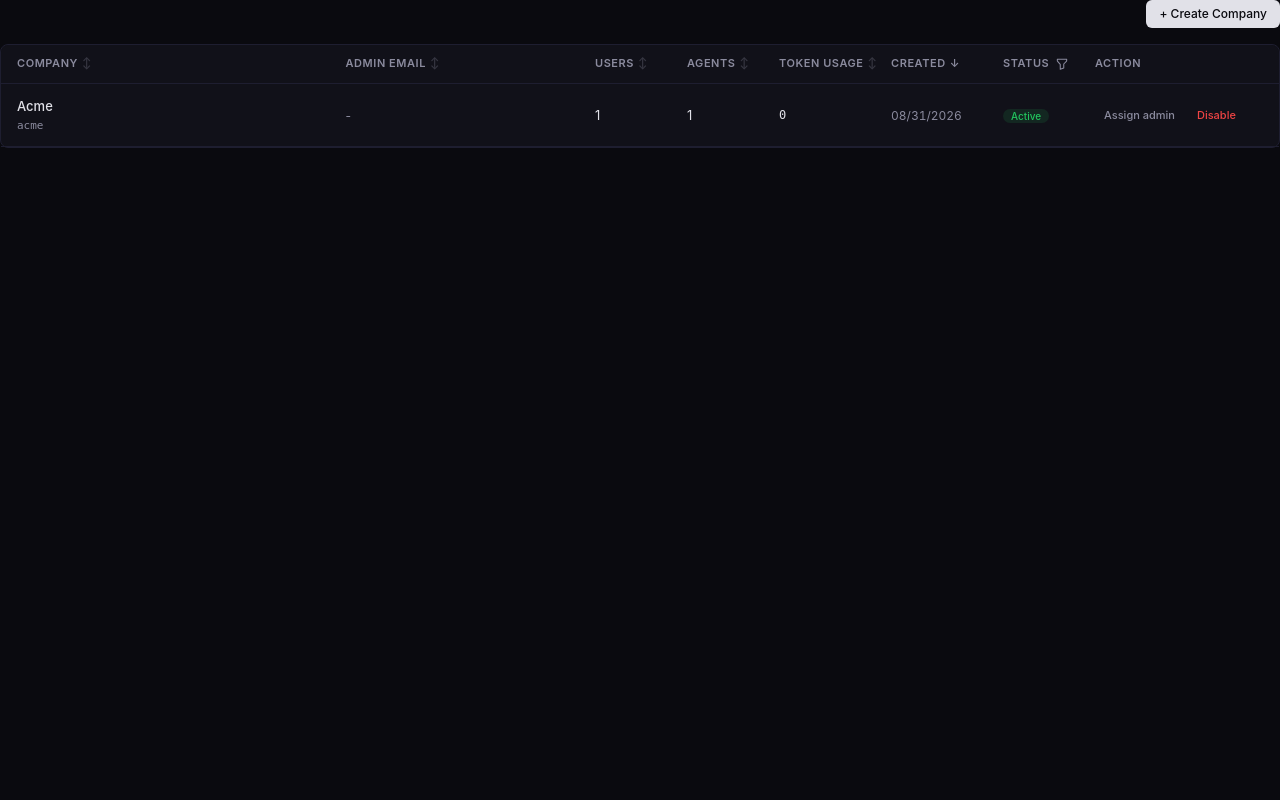
Test: AdminCompaniesSection assignment authority flow › reports clipboard failure without closing the administrator invitation dialog
Click the button "+ Create Company": (1213, 14) [1146,0,1279,28]
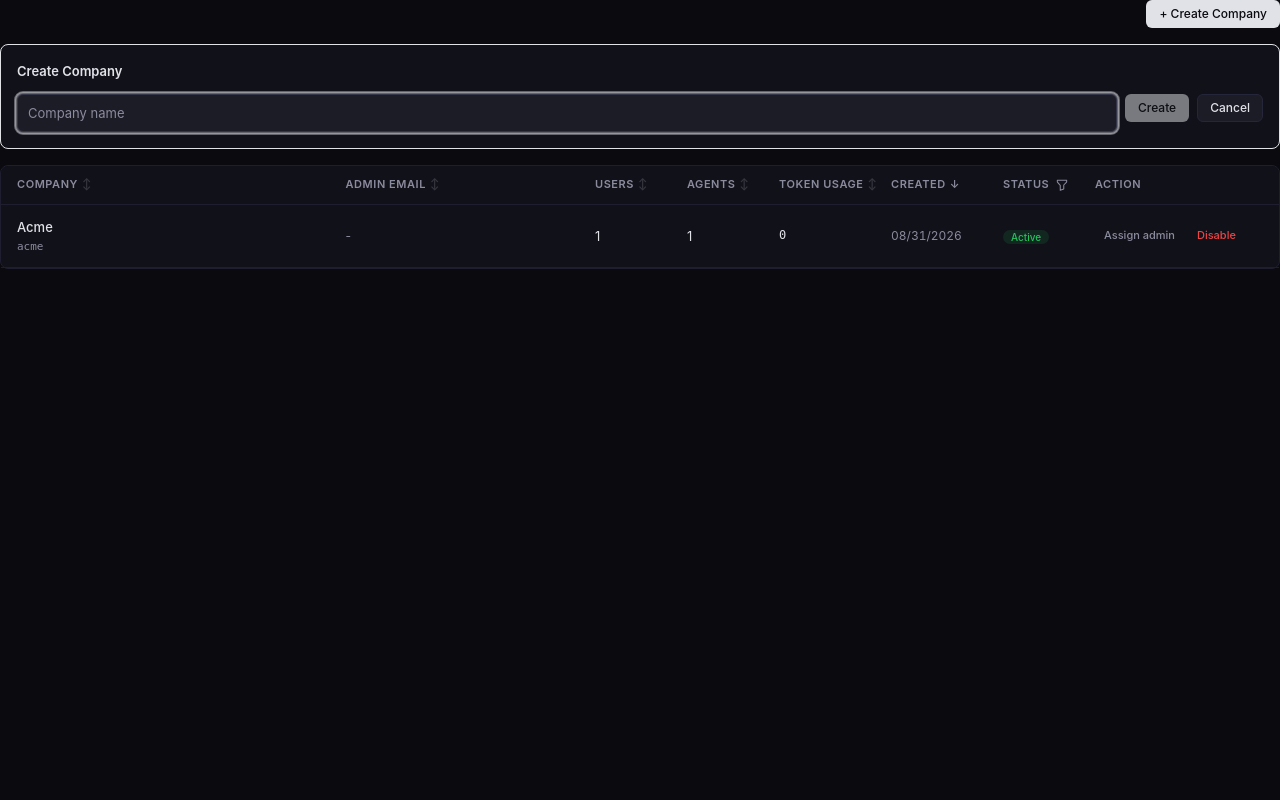
In the field labelled "Company name": (567, 113) [17,94,1117,132], type "Northwind"
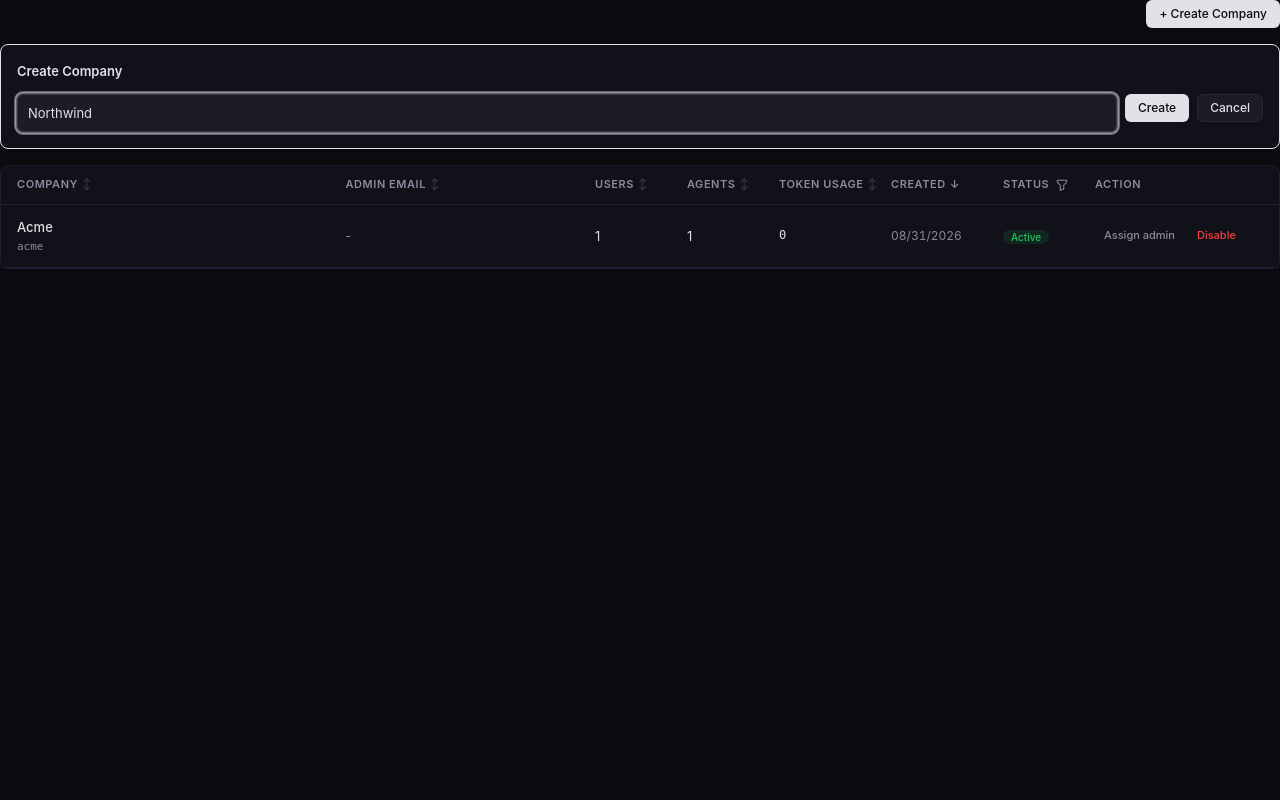
Click the button "Create": (1157, 108) [1125,94,1189,122]
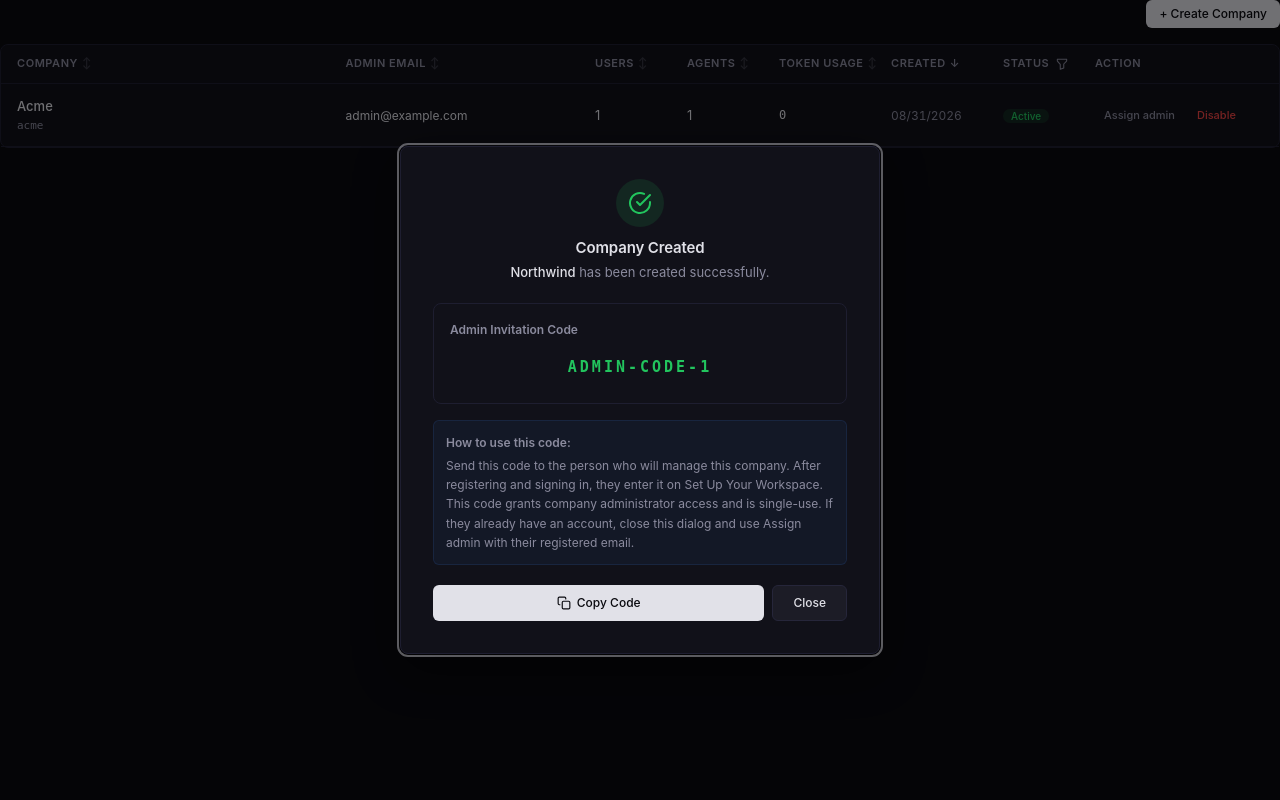
expect the dialog "Company Created" is shown: met, box [400,146,880,654]
Click the button "Copy Code": (599, 603) [433,585,764,621]
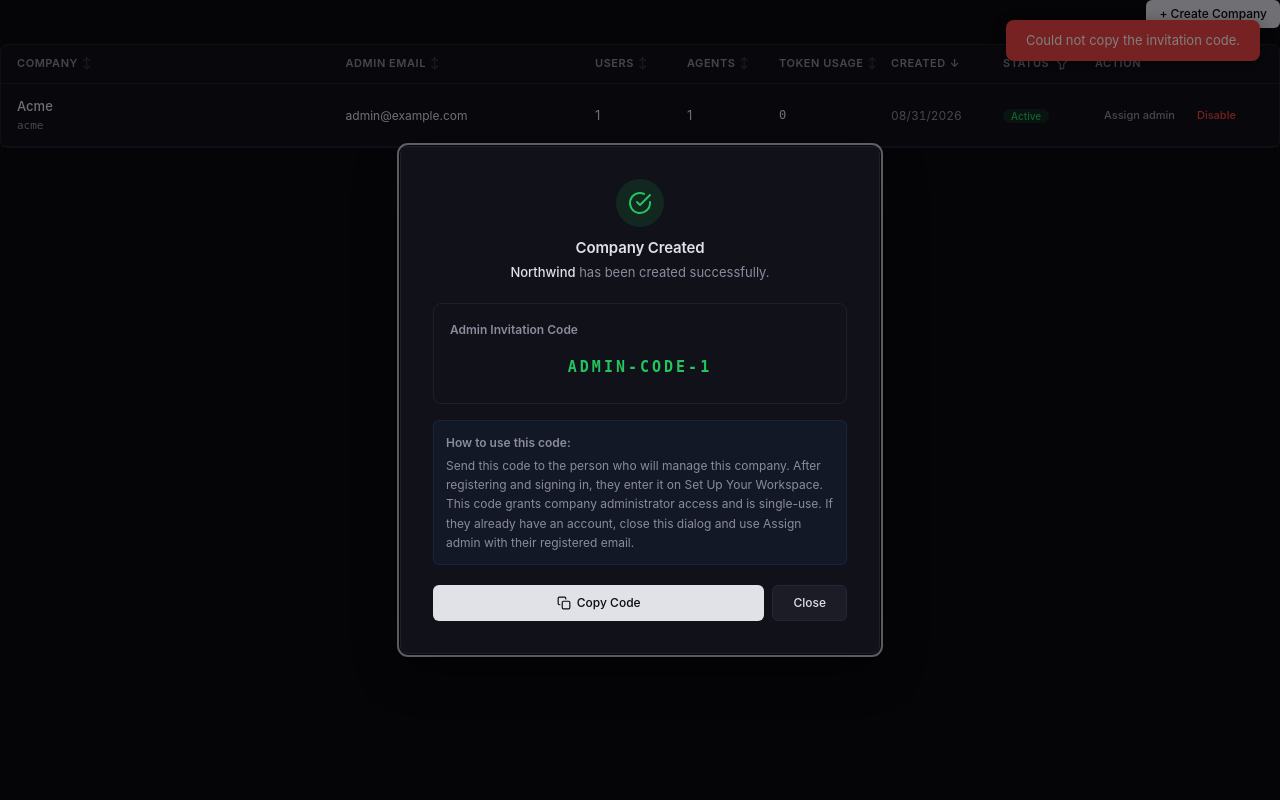
expect the dialog "Company Created" is shown: met, box [400,146,880,654]
expect the message reads "Could not copy the invitation code.": met, box [1026,32,1240,48]
